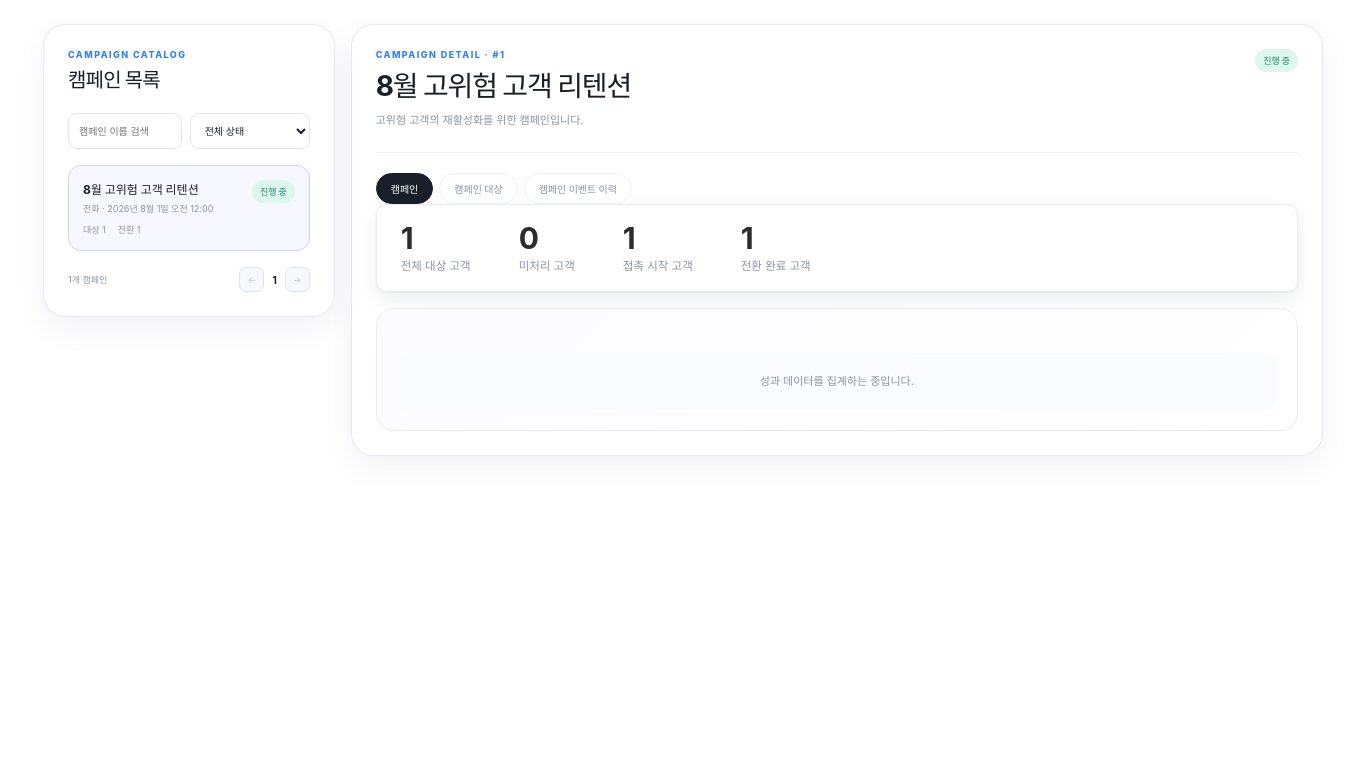
Test: 캠페인 관리 화면 › 대상과 이벤트 이력은 10개 페이지 단위로 이동합니다
Click the tab "캠페인 대상": (478, 188) [439,173,518,204]
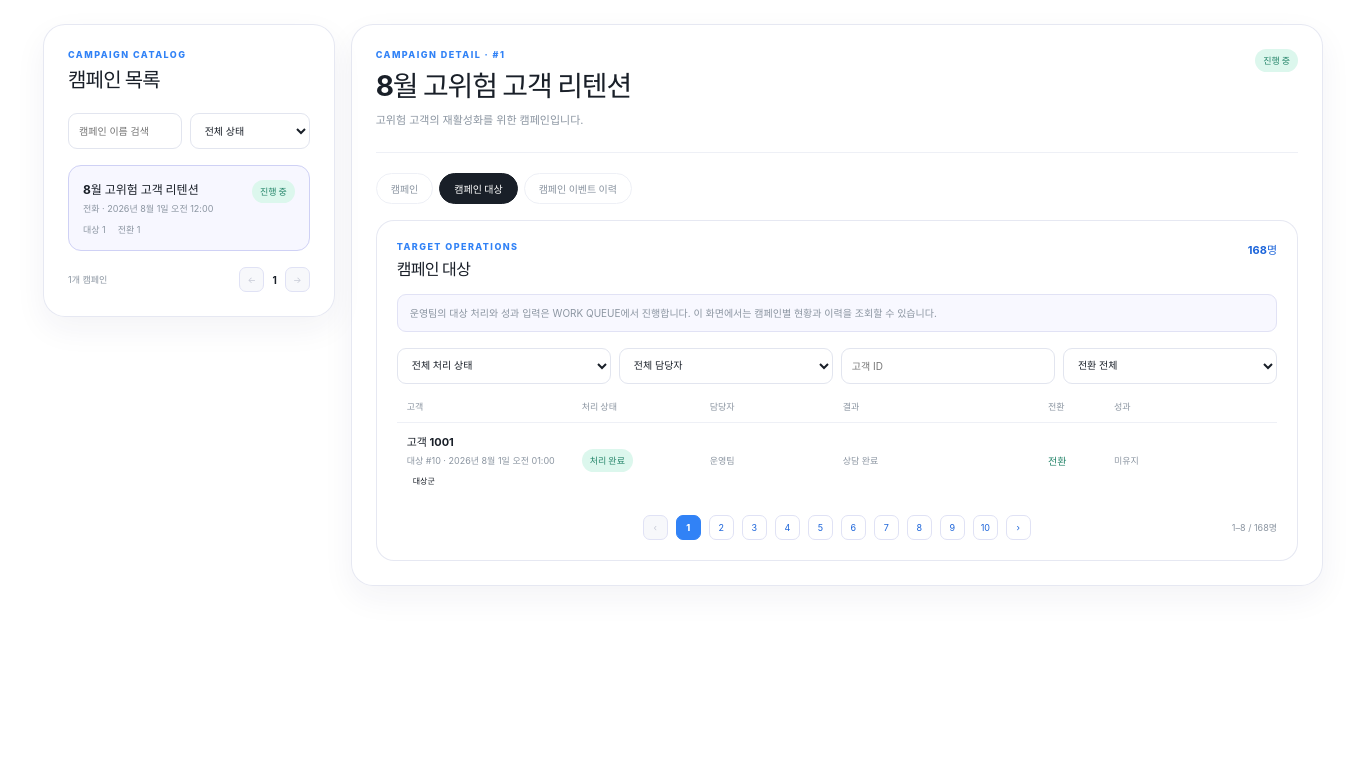
Result: the button named "대상 1페이지" is shown at [676,515,701,540]
Result: the button named "대상 10페이지" is shown at [973,515,998,540]
Click the button named "다음 대상 페이지 묶음": (1018, 527) [1006,515,1031,540]
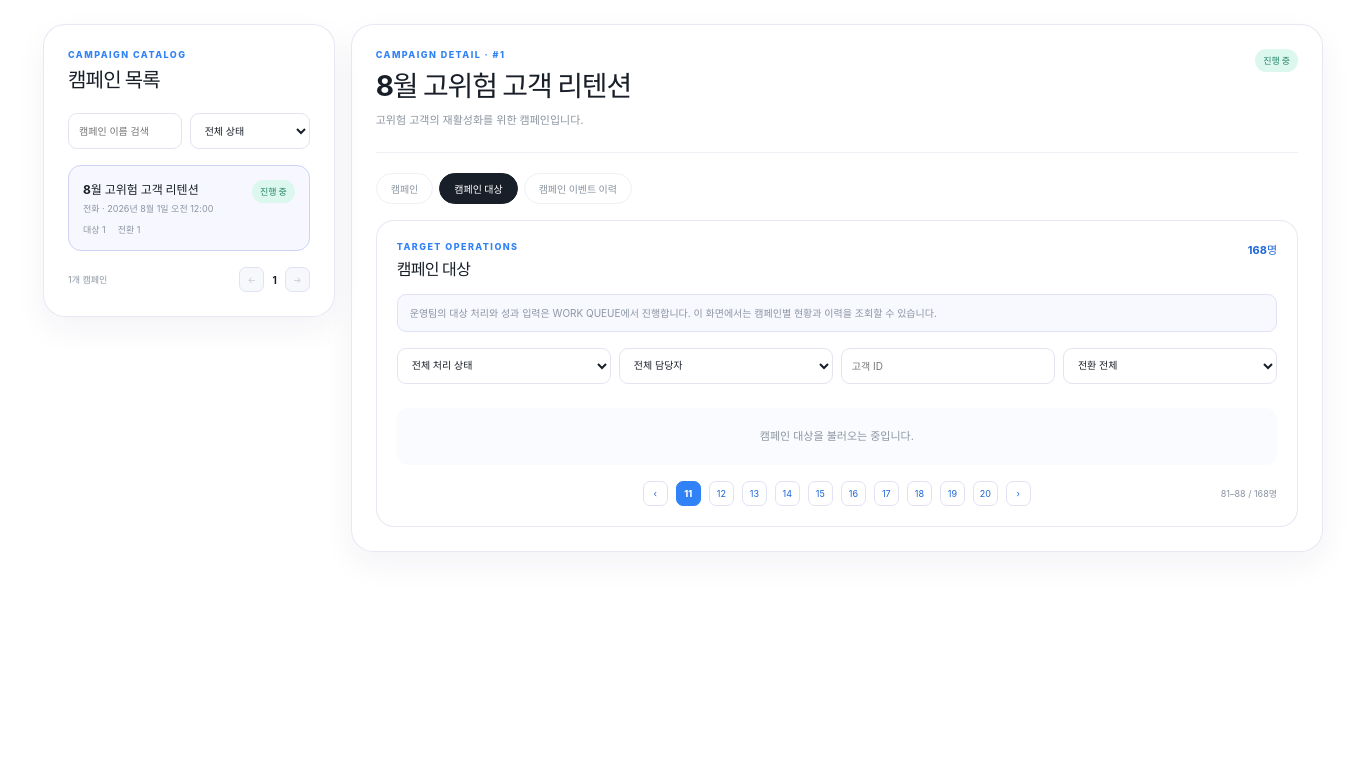
Result: the button named "대상 11페이지" is shown at [676,481,701,506]
Result: the button named "대상 20페이지" is shown at [973,481,998,506]
Click the tab "캠페인 이벤트 이력": (578, 188) [524,173,632,204]
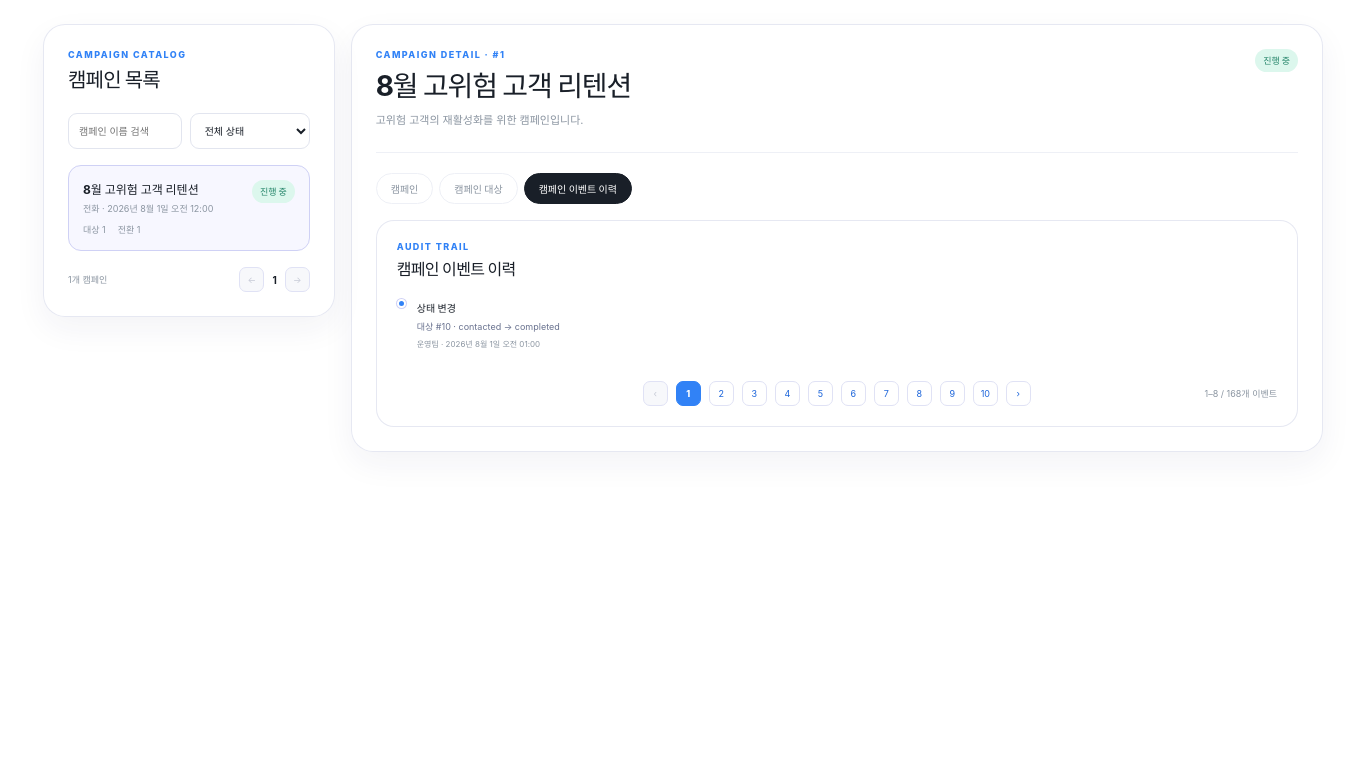
Result: the button named "이벤트 1페이지" is shown at [676,381,701,406]
Result: the button named "이벤트 10페이지" is shown at [973,381,998,406]
Click the button named "다음 이벤트 페이지 묶음": (1018, 393) [1006,381,1031,406]
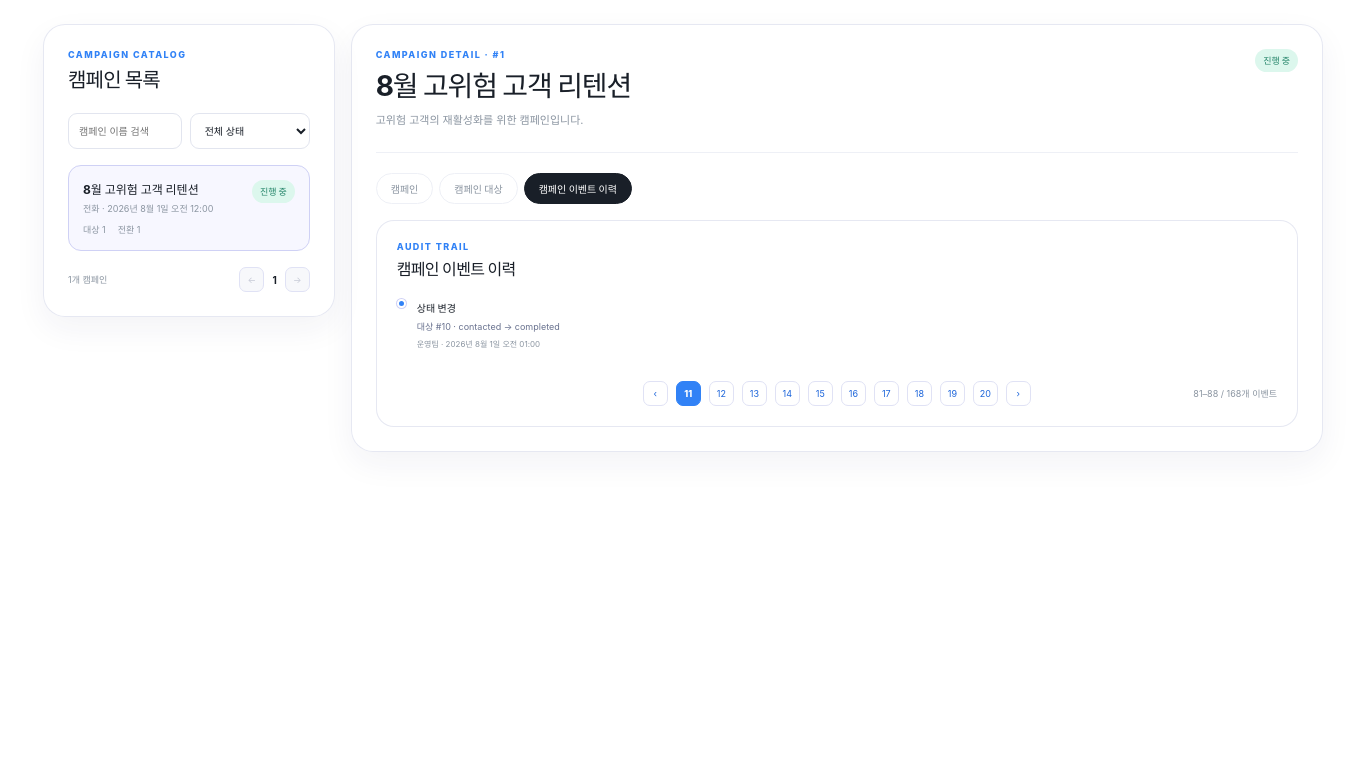
Result: the button named "이벤트 11페이지" is shown at [676,381,701,406]
Result: the button named "이벤트 20페이지" is shown at [973,381,998,406]
